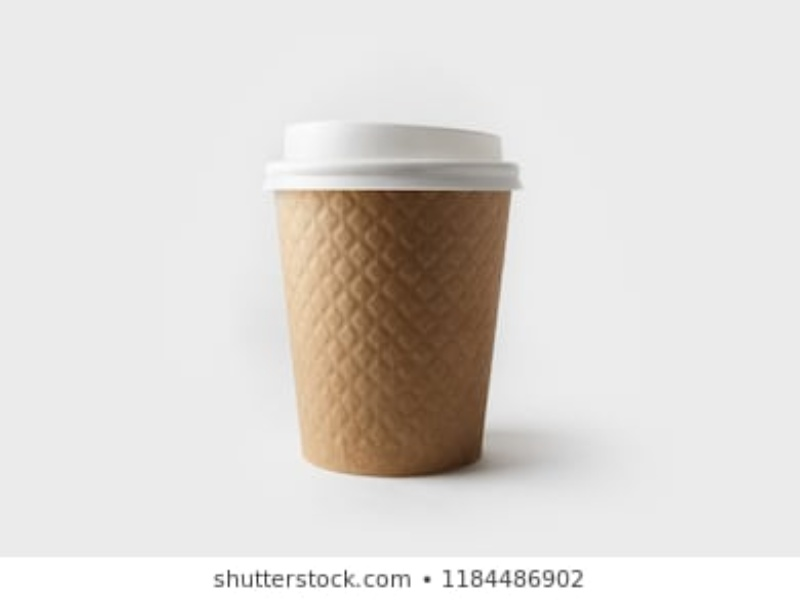coffee-lid: (255, 118, 528, 195)
